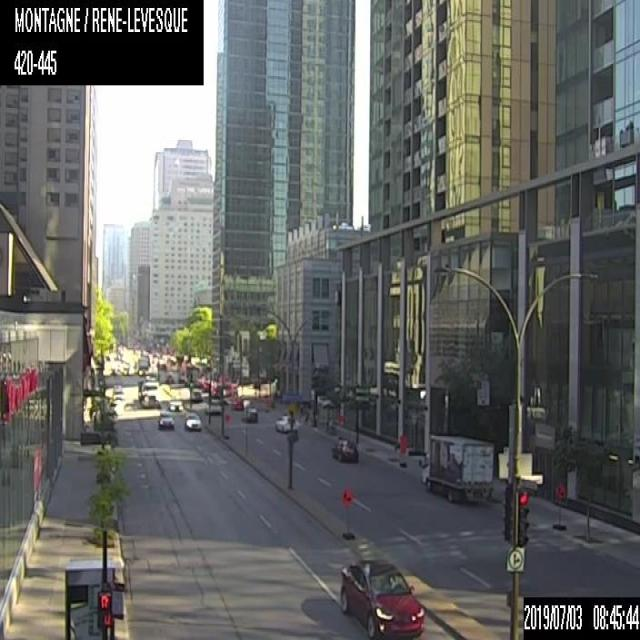construction: (341, 486, 354, 534), (554, 476, 566, 525), (398, 434, 407, 466)
vehicle: (339, 554, 424, 638), (417, 432, 494, 503), (331, 434, 356, 462), (137, 378, 158, 406), (275, 414, 297, 431), (240, 404, 258, 423), (156, 409, 174, 427), (184, 411, 201, 429), (168, 396, 184, 412), (204, 398, 219, 413), (112, 383, 123, 400), (191, 388, 202, 401)
